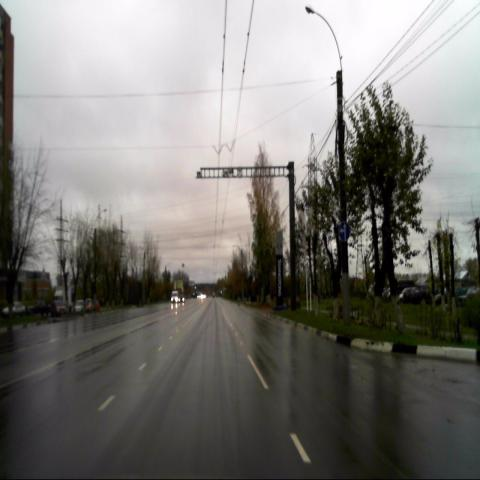4_1_5: (338, 222, 350, 242)
